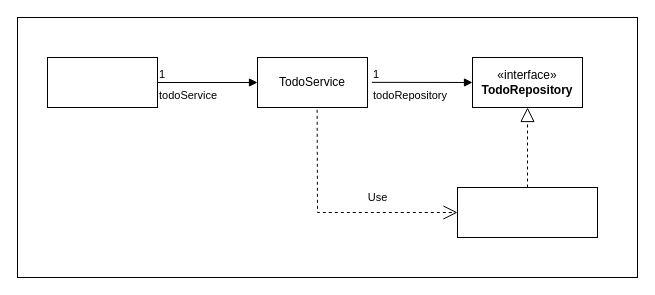
Image size: 655x295. Some labels were removed from this diagram. The box of each missing label's shape, as (x1, y1, x2, y2) in pixels:
TodoController: (46, 56, 158, 108)
TodoRepositoryPostgres: (456, 186, 598, 238)
